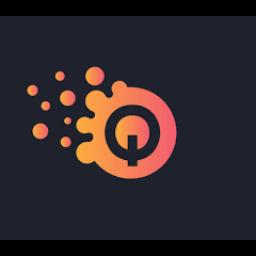q: (101, 100, 163, 170)
